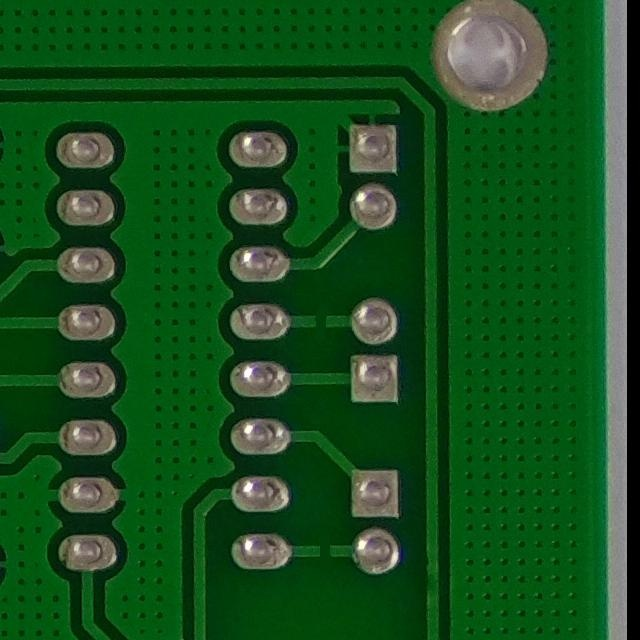open_circuit: (307, 307, 333, 333)
